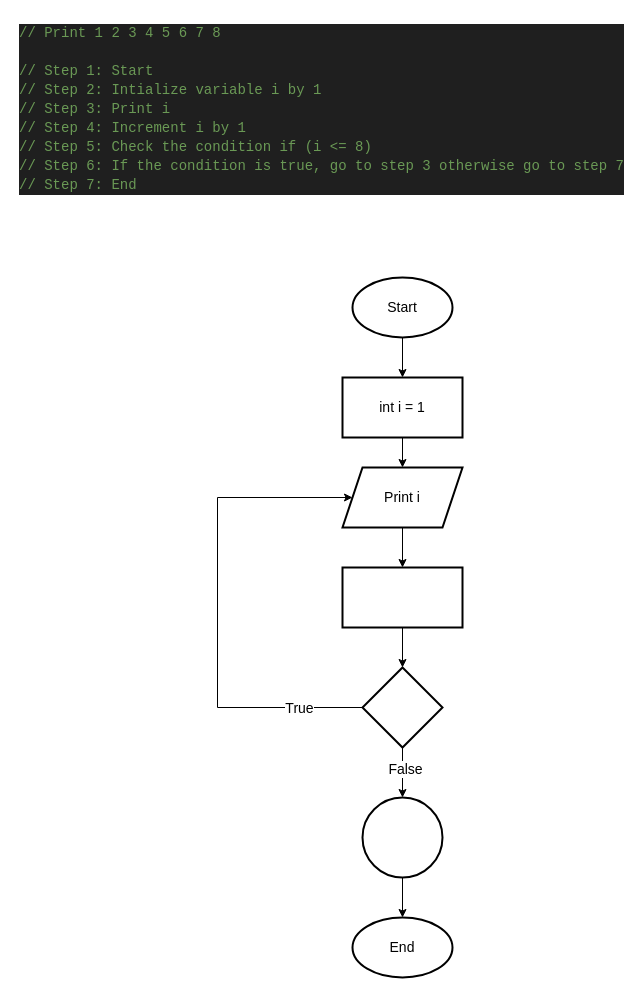
This 641x995 diagram has some shape labels left out. The centre of each missing label's shape, as x and y in pixels:
"i < = 8" goes at [402,707].
"i++" goes at [402,597].
